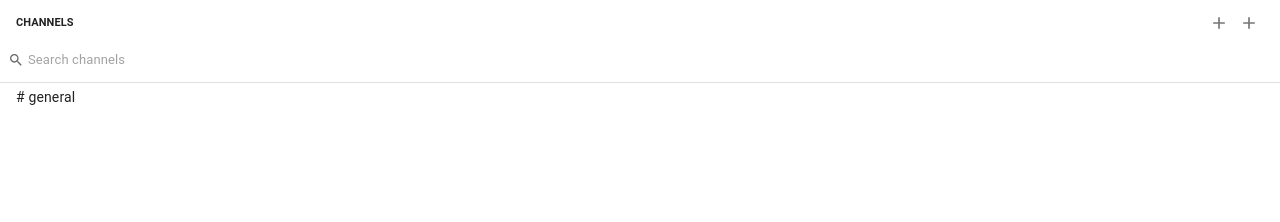
Scenario: ChannelList: ピン留めチャンネルのUI表示 › ピン留め操作UI › 未ピン留めチャンネルにホバーすると3点メニューに「ピン留め」が表示される
This screenshot has width=1280, height=222.
Hover over the list item "# general" at (46, 97), box top-left (16, 89), bottom-right (75, 105)
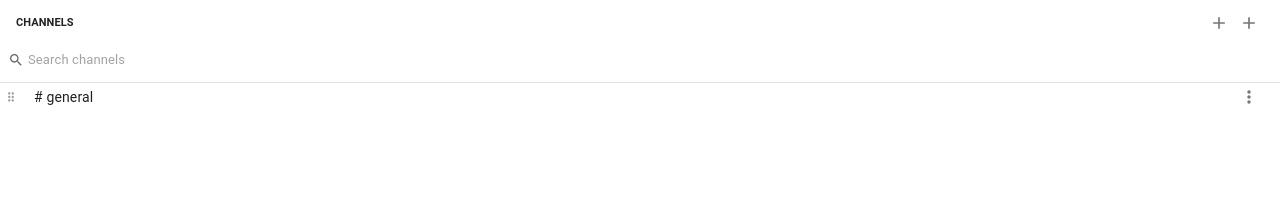
Click the button named "その他のアクション". click: (1249, 97)
box: top-left (1234, 82), bottom-right (1264, 112)
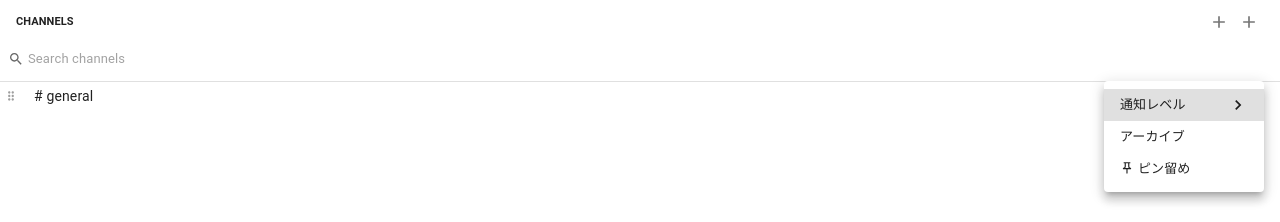
Now the menu item "ピン留め" is shown, box top-left (1120, 160), bottom-right (1190, 176)
